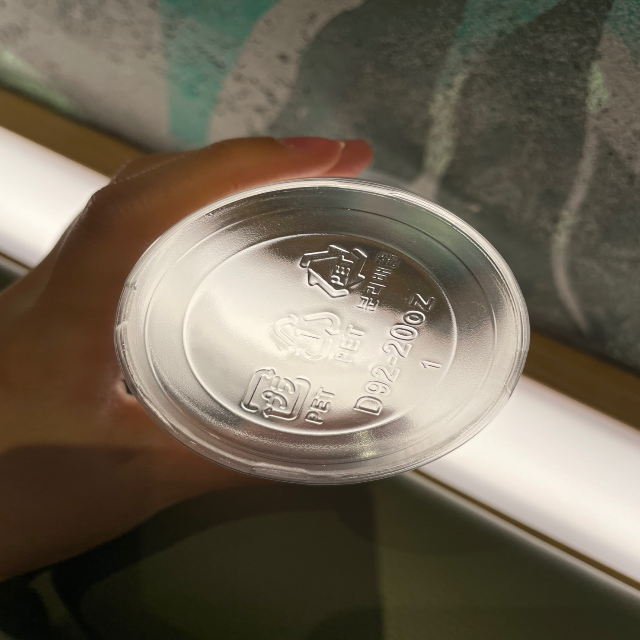pet: (229, 358, 333, 434), (292, 240, 397, 313), (269, 306, 367, 372)
